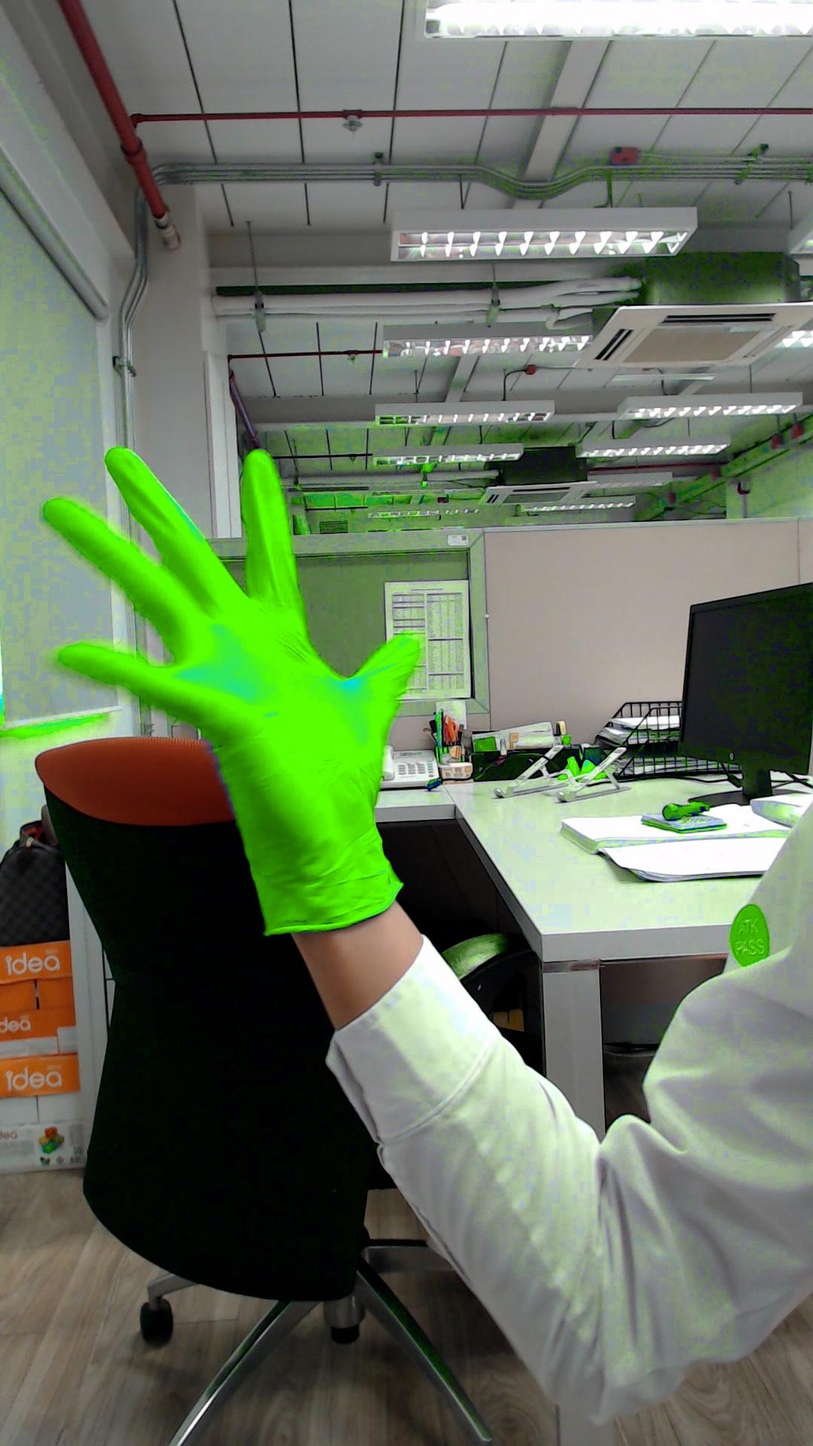gloves: (31, 418, 441, 813)
